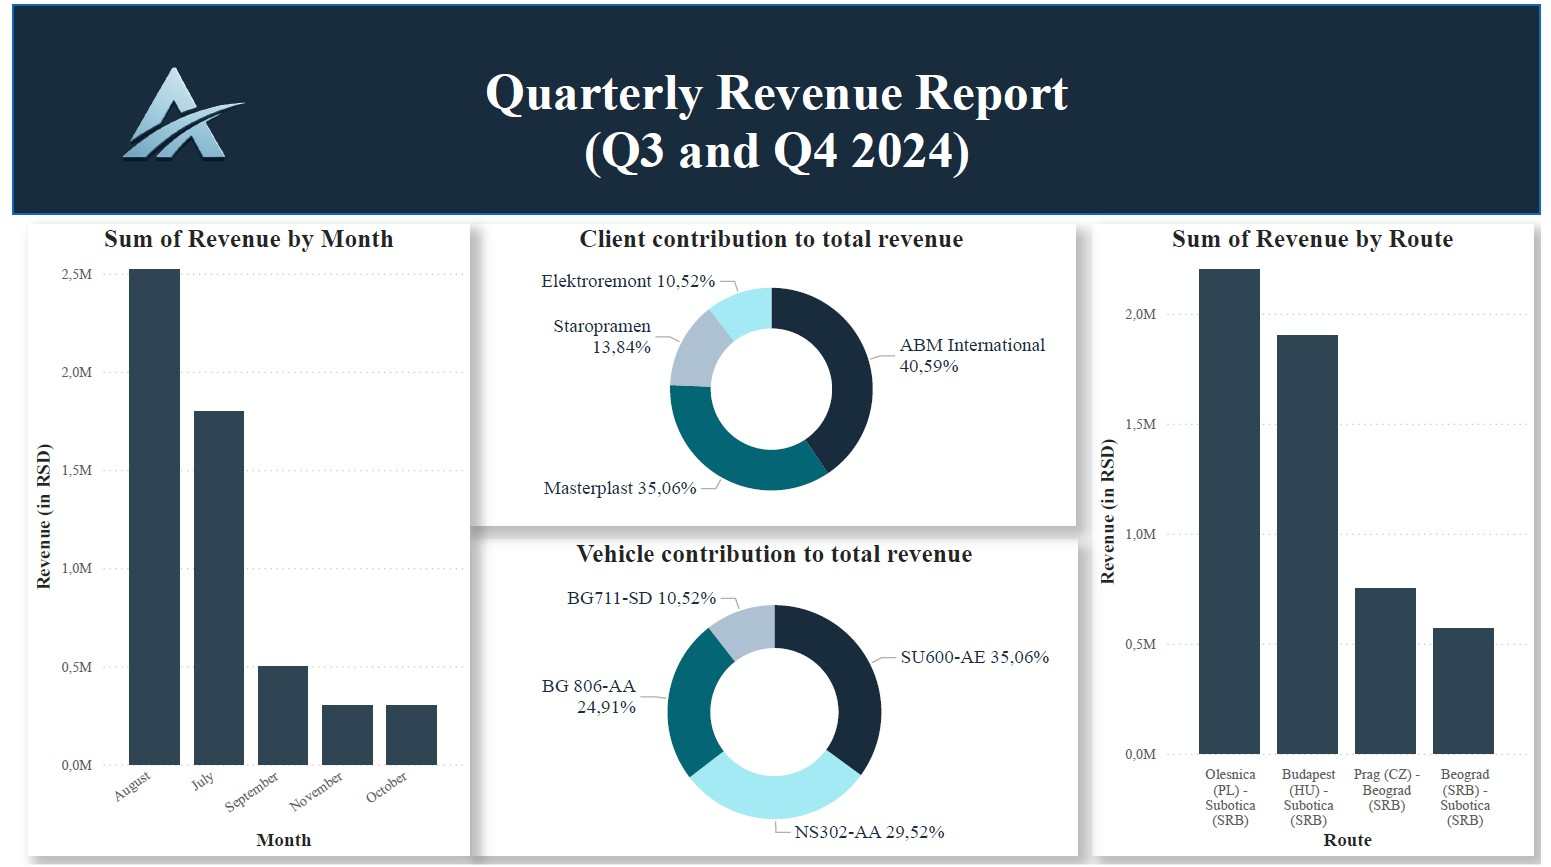

This screenshot's page, from the dashboard's own definition file:
{"tool":"powerbi","page":{"name":"Revenue","canvas":[1280,720],"ordinal":0},"visuals":[{"type":"shape","box":[0,0,1280.3,176.1],"z":0},{"type":"image","box":[0,0,268.6,195.7],"z":1000},{"type":"columnChart","title":"Sum of Revenue by Route","fields":{"Category":["Query1.Route"],"Y":["Sum(Query1.Revenue)"]},"box":[904.3,184.3,370,528.6],"z":2000},{"type":"donutChart","title":"Vehicle contribution to total revenue","fields":{"Category":["Query1.RegistrationTag"],"Y":["Sum(Query1.Revenue)"]},"box":[383.5,448.3,508.6,264.3],"z":3000},{"type":"textbox","box":[388.6,42.9,502.9,110],"z":4000},{"type":"donutChart","title":"Client contribution to total revenue","fields":{"Category":["Query1.ClientName"],"Y":["Sum(Query1.Revenue)"]},"box":[381.4,184.3,508.6,251.4],"z":5000},{"type":"lineStackedColumnComboChart","title":"Sum of Revenue by Month","fields":{"Category":["Query1.Month"],"Y":["Sum(Query1.Revenue)"]},"box":[12.9,184.3,370,528.6],"z":6000}]}

Visuals, with their boxes in screenshot pixels (x1, y1, x2, y2), scaled from the page's 1280x720 canvas onto the 1551x867 screenshot:
shape: 0/0/1550/212
image: 0/0/325/236
"Sum of Revenue by Route" columnChart: 1096/222/1544/858
"Vehicle contribution to total revenue" donutChart: 465/540/1081/858
textbox: 471/52/1080/184
"Client contribution to total revenue" donutChart: 462/222/1078/525
"Sum of Revenue by Month" lineStackedColumnComboChart: 16/222/464/858
